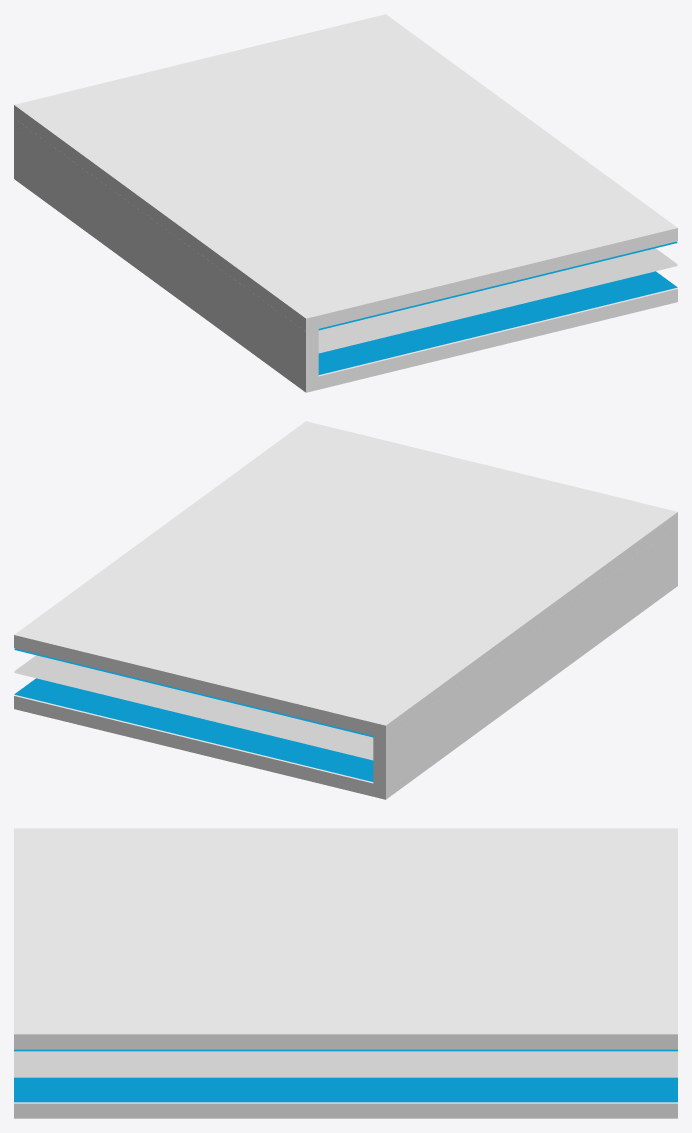
Rendered from book2.glb.
3 views of the same model, one above another, from view 1: azimuth 30°, elevation 25°; view 2: azimuth 150°, elevation 25°; view 3: azimuth 270°, elevation 25° (orthographic). The views are drawn at different scales.
Visible parts, largest first — view 1: cover-l, pine, cover-r, paper, paper.017, paper.033, paper.016; view 2: cover-l, pine, cover-r, paper, paper.017, paper.033, paper.016; view 3: cover-l, paper, paper.017, cover-r, paper.033, paper.016.
Part boxes in pixels (x1=…): cover-l: x1=14, y1=14, x2=677, y2=331; pine: x1=14, y1=118, x2=318, y2=379; cover-r: x1=14, y1=166, x2=677, y2=392; paper: x1=318, y1=271, x2=677, y2=374; paper.017: x1=318, y1=248, x2=677, y2=351; paper.033: x1=318, y1=241, x2=677, y2=330; paper.016: x1=318, y1=265, x2=677, y2=353; cover-l: x1=14, y1=421, x2=677, y2=738; pine: x1=373, y1=525, x2=677, y2=786; cover-r: x1=14, y1=573, x2=677, y2=799; paper: x1=14, y1=678, x2=373, y2=781; paper.017: x1=14, y1=655, x2=373, y2=758; paper.033: x1=14, y1=648, x2=373, y2=737; paper.016: x1=14, y1=672, x2=373, y2=760; cover-l: x1=14, y1=828, x2=677, y2=1049; paper: x1=14, y1=1077, x2=677, y2=1102; paper.017: x1=14, y1=1051, x2=677, y2=1075; cover-r: x1=14, y1=1102, x2=677, y2=1118; paper.033: x1=14, y1=1049, x2=677, y2=1051; paper.016: x1=14, y1=1076, x2=677, y2=1077.
Bounding box in the file's own units: 1.47 × 0.28 × 2.
